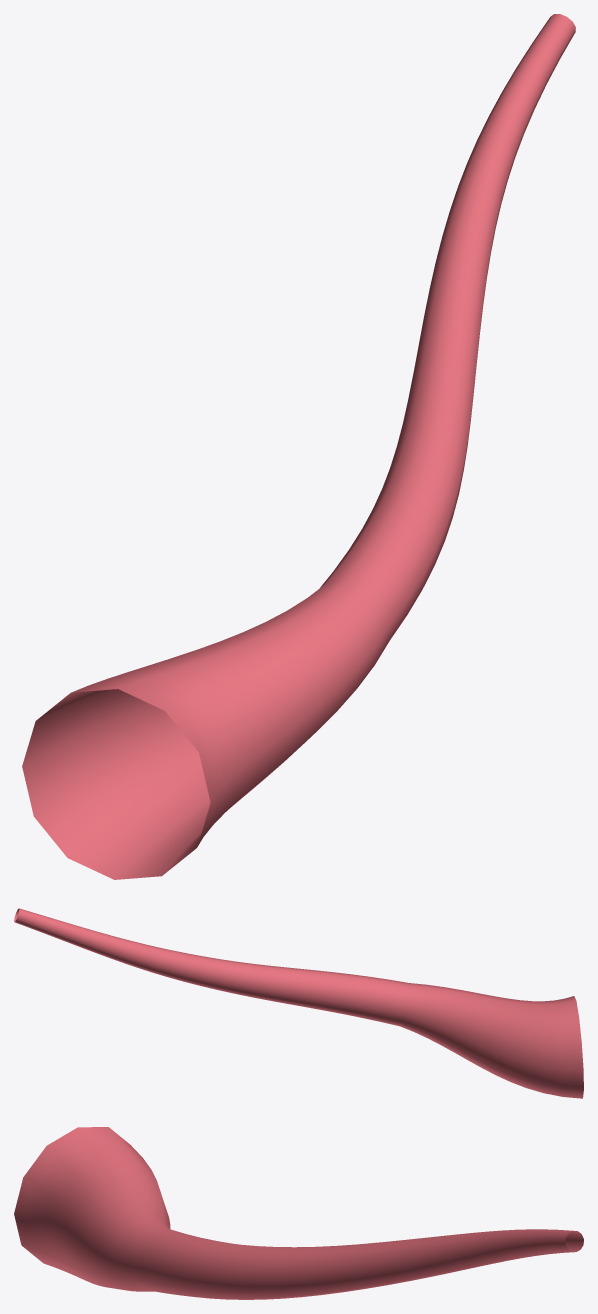
The picture shows the model from 3 angles, top to bottom: view 1: azimuth 30°, elevation 25°; view 2: azimuth 150°, elevation 25°; view 3: azimuth 270°, elevation 25°; orthographic projection. The views are drawn at different scales.
Parts seen in each view (by area): view 1: ZA_712ba76313bf58e3; view 2: ZA_712ba76313bf58e3; view 3: ZA_712ba76313bf58e3.
Part boxes in pixels (x1=…): ZA_712ba76313bf58e3: x1=22, y1=14, x2=575, y2=879; ZA_712ba76313bf58e3: x1=14, y1=908, x2=583, y2=1098; ZA_712ba76313bf58e3: x1=14, y1=1127, x2=583, y2=1299.
Size of the model in its own units: 0.033 by 0.0159 by 0.0262.
